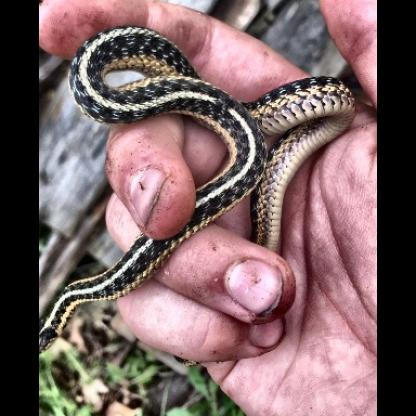Snake: (43, 29, 357, 355)
